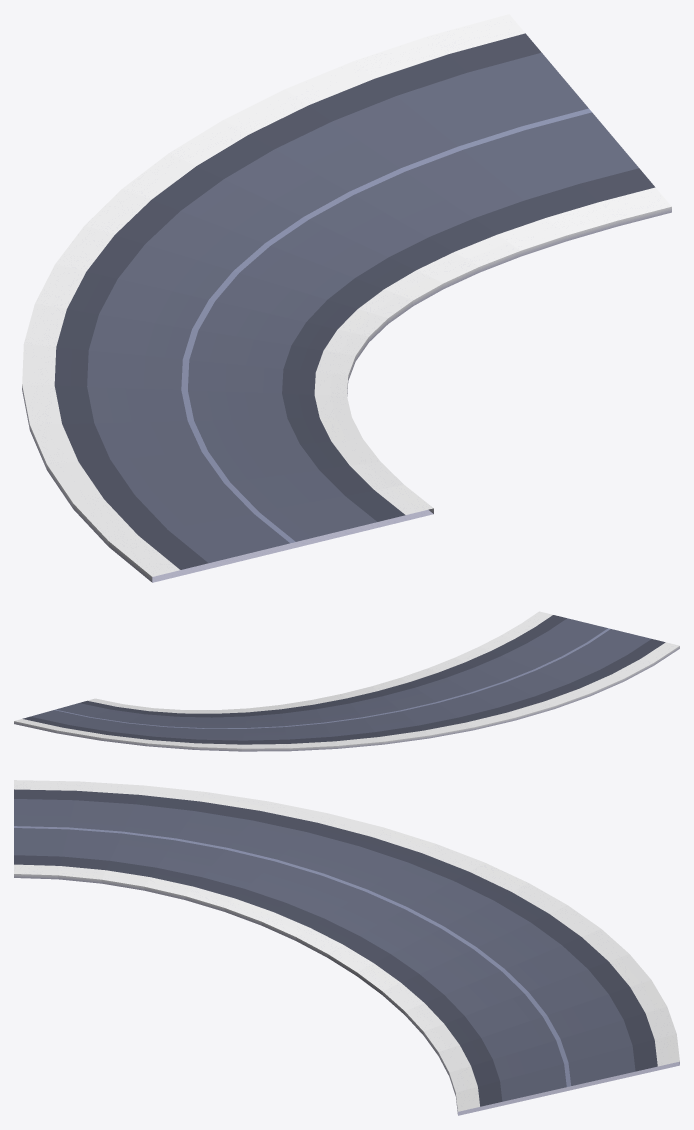
The model's file is road-Turn-Flat-HalfBankedRight-Down1-Right-Size3.glb.
The picture shows the model from 3 angles, top to bottom: view 1: azimuth 30°, elevation 25°; view 2: azimuth 150°, elevation 25°; view 3: azimuth 270°, elevation 25°; orthographic projection. The views are drawn at different scales.
Parts seen in each view (by area): view 1: road-Turn-Flat-HalfBankedRight-Down1-Right-Size3; view 2: road-Turn-Flat-HalfBankedRight-Down1-Right-Size3; view 3: road-Turn-Flat-HalfBankedRight-Down1-Right-Size3.
Part boxes in pixels (box(x1,y1,x2,y2)): road-Turn-Flat-HalfBankedRight-Down1-Right-Size3: box(22, 14, 671, 582); road-Turn-Flat-HalfBankedRight-Down1-Right-Size3: box(14, 611, 679, 751); road-Turn-Flat-HalfBankedRight-Down1-Right-Size3: box(14, 780, 679, 1115).
Bounding box in the file's own units: 3 × 0.27 × 3.
1 material, 1 textured.
